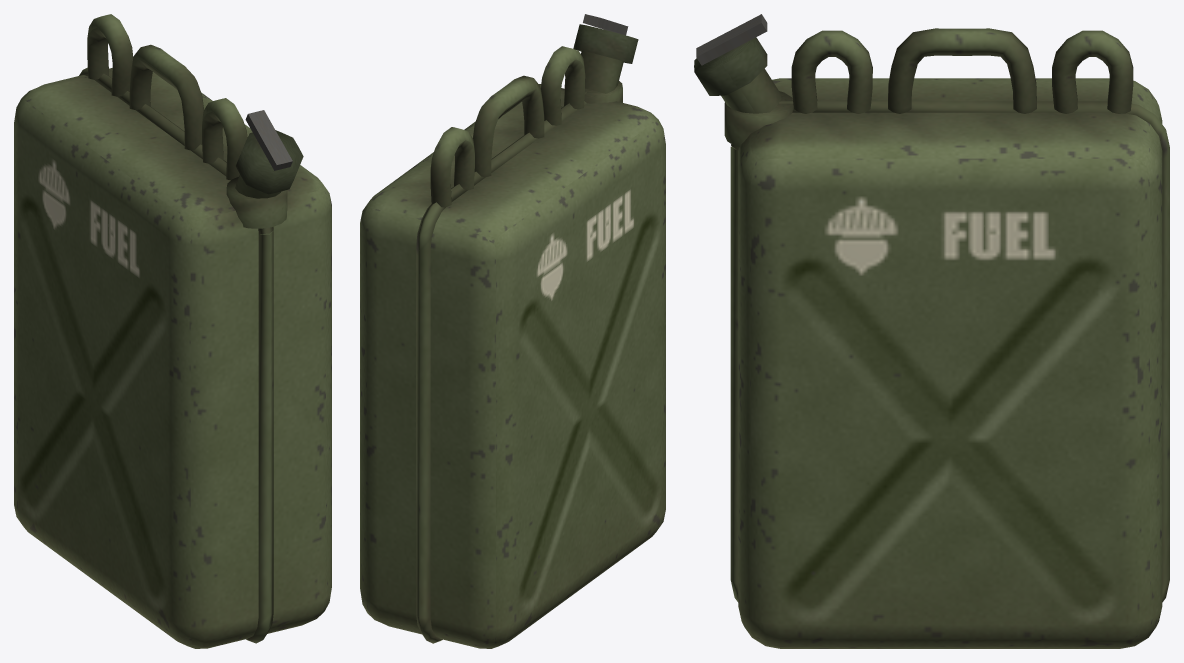
Rendered from OA_TeamFuelCan_Ground.fbx.
The picture shows the model from 3 angles, left to right: view 1: azimuth 30°, elevation 25°; view 2: azimuth 150°, elevation 25°; view 3: azimuth 270°, elevation 25°; orthographic projection. The views are drawn at different scales.
Parts seen in each view (by area): view 1: OA_TeamFuelCan_Ground; view 2: OA_TeamFuelCan_Ground; view 3: OA_TeamFuelCan_Ground.
Part boxes in pixels (x1=…): OA_TeamFuelCan_Ground: x1=14, y1=14, x2=331, y2=648; OA_TeamFuelCan_Ground: x1=360, y1=14, x2=665, y2=648; OA_TeamFuelCan_Ground: x1=694, y1=14, x2=1169, y2=648.
Bounding box in the file's own units: 0.1917 × 0.6146 × 0.4364.
